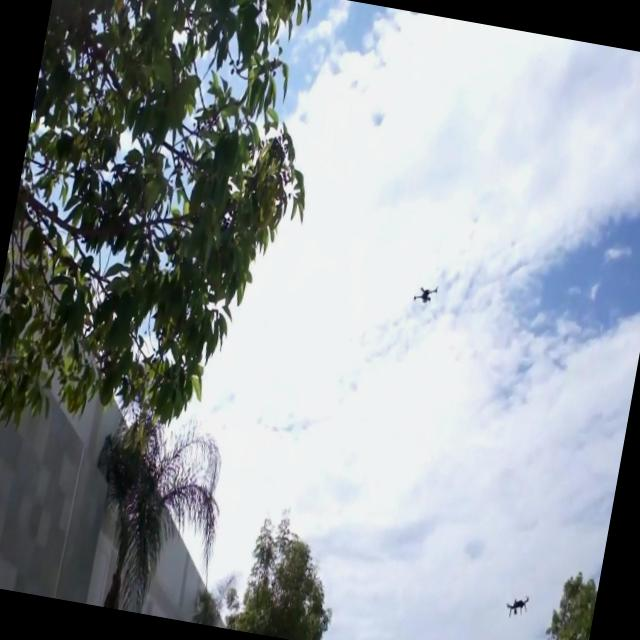drone: (410, 283, 439, 311), (503, 590, 530, 620)
